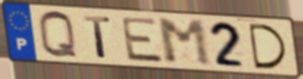2: (207, 20, 250, 71)
D: (246, 22, 290, 71)
E: (119, 15, 167, 64)
M: (155, 18, 215, 68)
Q: (36, 9, 80, 61)
T: (82, 14, 114, 60)
